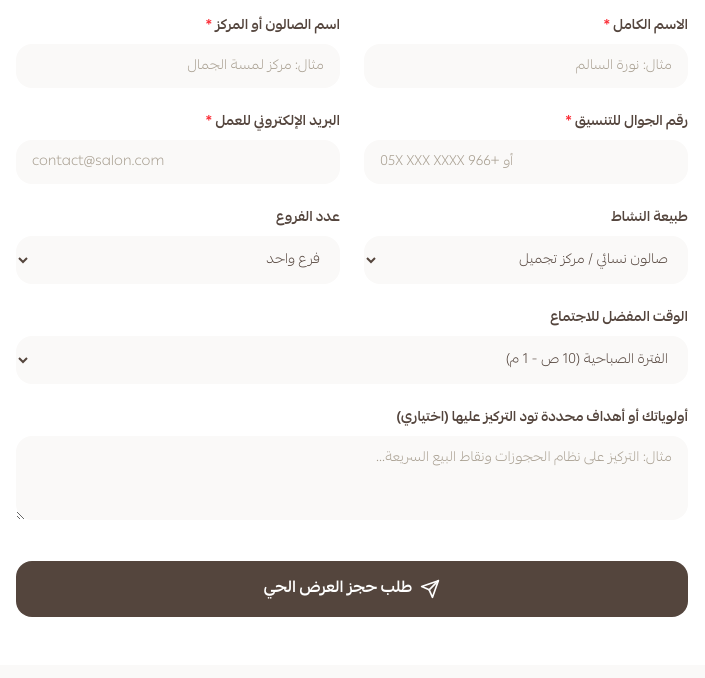
Test: RASHX Commercial Suite (/demo & /get-started) › Demo Components (/demo) › validates required fields in DemoForm
(page scrolled)
Click the button "طلب حجز العرض الحي" at (352, 589), box left=16, top=561, right=688, bottom=617
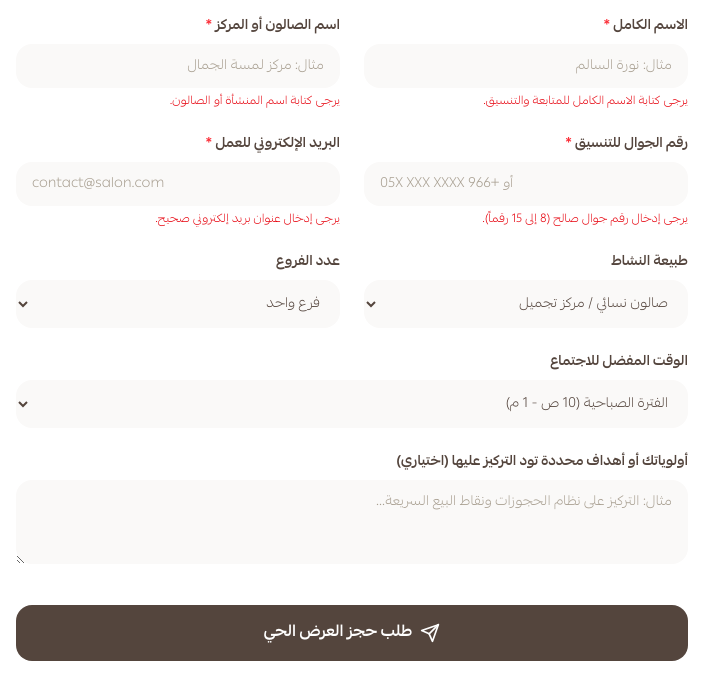
Check: the text "يرجى كتابة الاسم الكامل للمتابعة والتنسيق." is shown, box left=483, top=92, right=688, bottom=111
Check: the text "يرجى كتابة اسم المنشأة أو الصالون." is shown, box left=170, top=92, right=340, bottom=111
